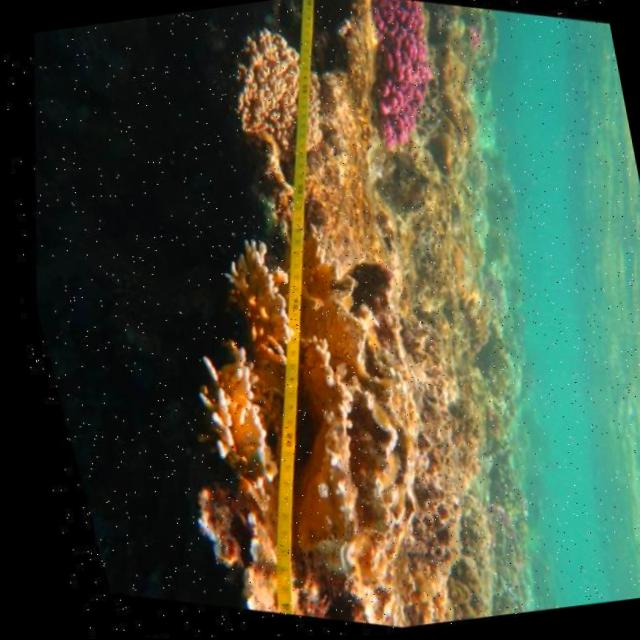Healthy Coral: (102, 181, 479, 639), (331, 0, 481, 176), (211, 14, 332, 186)
